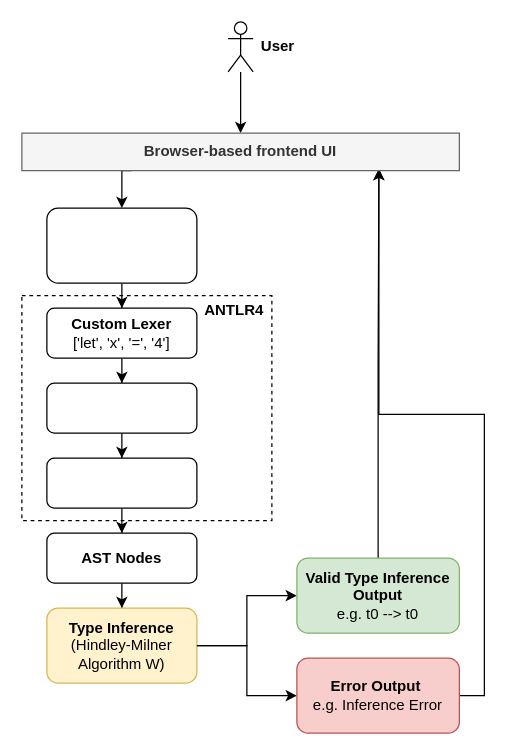
Some shapes in this 516 by 755 pixel diagram are drawn without their labels. The shapes that lost their labels are listed below. From the top down, each one's box as (x1, y1, x2, y2) in pixels, then its label:
(46, 207, 197, 283): OCaml Input `let x = 4;;`
(46, 382, 197, 433): Custom Parser AST
(46, 457, 197, 508): Custom Visitor
